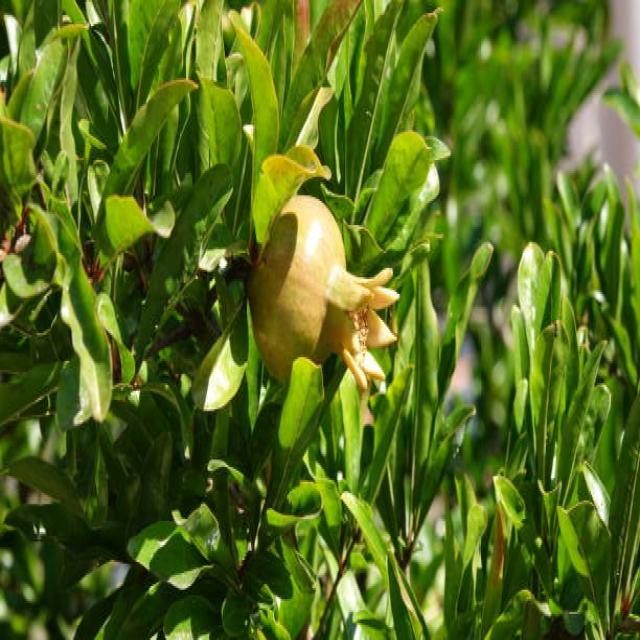Unripe: (245, 186, 398, 397)
